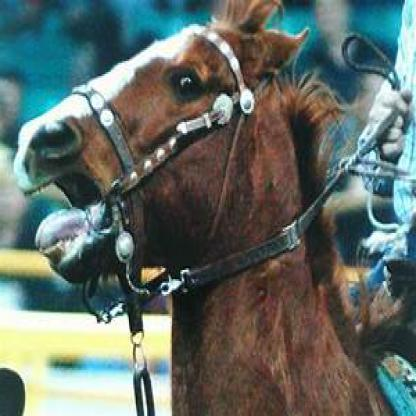horse: (17, 17, 352, 412)
